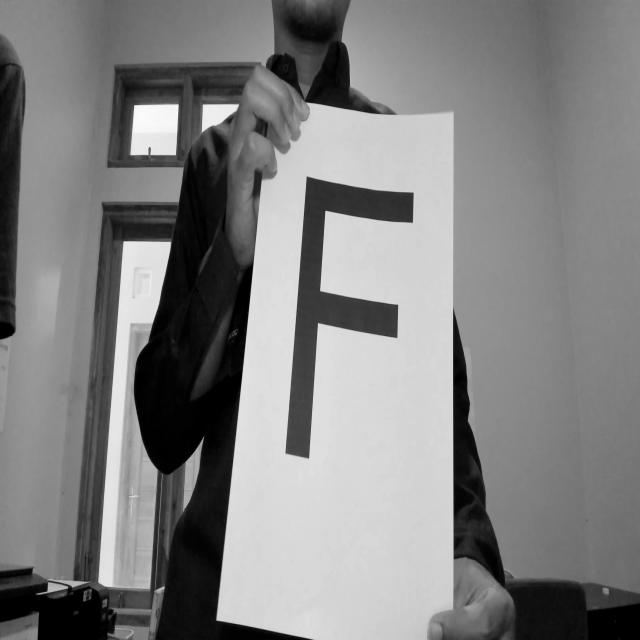f: (286, 137, 419, 500)
